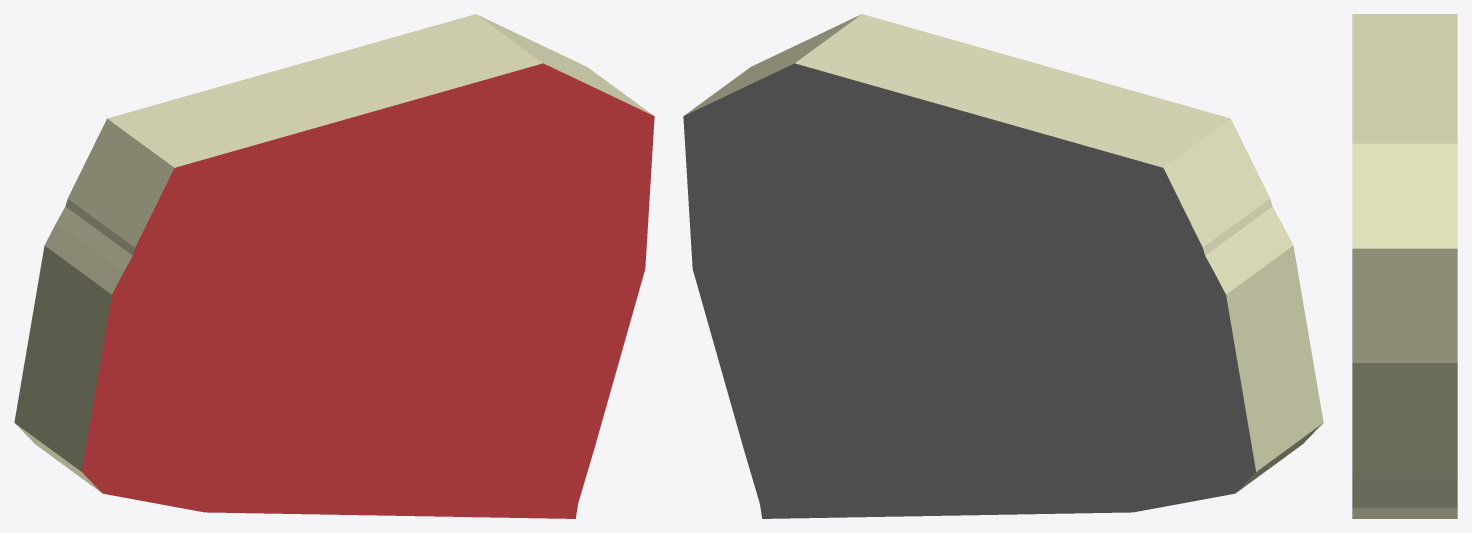
The picture shows the model from 3 angles, left to right: view 1: azimuth 30°, elevation 25°; view 2: azimuth 150°, elevation 25°; view 3: azimuth 270°, elevation 25°; orthographic projection. The views are drawn at different scales.
Visible parts, largest first — view 1: B01_flat; view 2: B01_flat; view 3: B01_flat.
Part boxes in pixels (x1,y1,x2,y2): B01_flat: [14, 14, 654, 518]; B01_flat: [683, 14, 1323, 518]; B01_flat: [1352, 14, 1457, 518].
Size of the model in its own units: 15.44 by 11.94 by 3.15.
